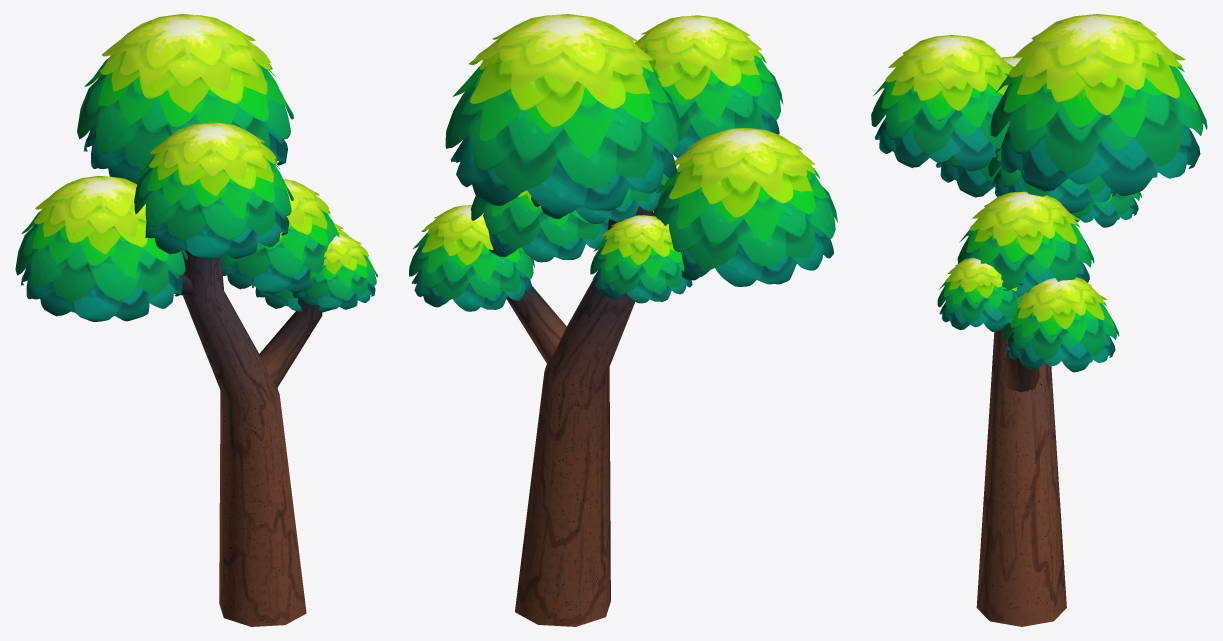
File: Tree1.fbx
3 views of the same model, side by side, from view 1: azimuth 30°, elevation 25°; view 2: azimuth 150°, elevation 25°; view 3: azimuth 270°, elevation 25° (orthographic). The views are drawn at different scales.
Parts seen in each view (by area): view 1: Circle, Cylinder.002; view 2: Circle, Cylinder.002; view 3: Circle, Cylinder.002.
Boxes of the visible parts, bbox=[...] form: Circle: bbox=[15, 14, 377, 321]; Cylinder.002: bbox=[174, 250, 322, 626]; Circle: bbox=[409, 14, 837, 311]; Cylinder.002: bbox=[506, 206, 652, 626]; Circle: bbox=[871, 14, 1207, 372]; Cylinder.002: bbox=[976, 283, 1066, 626].
Bounding box in the file's own units: 838 × 1282 × 698.
